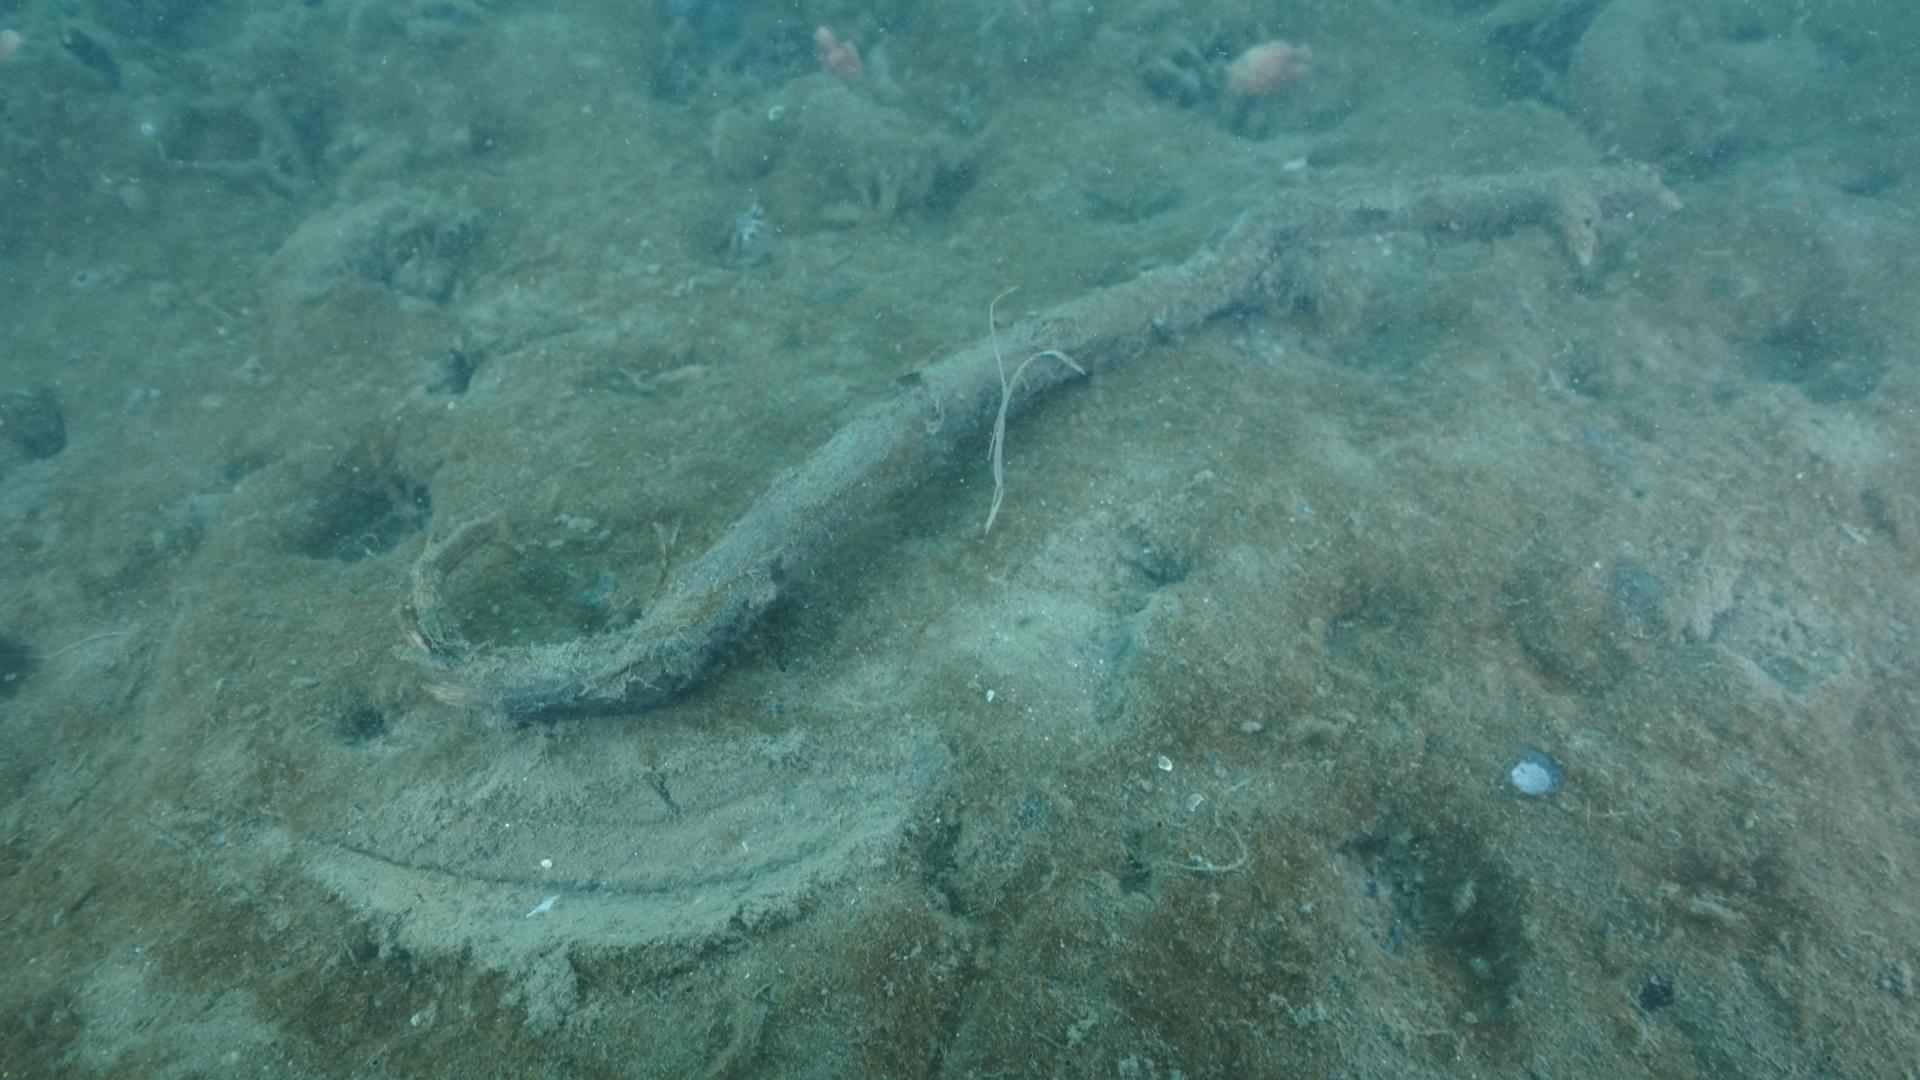wood: (392, 161, 1683, 717)
